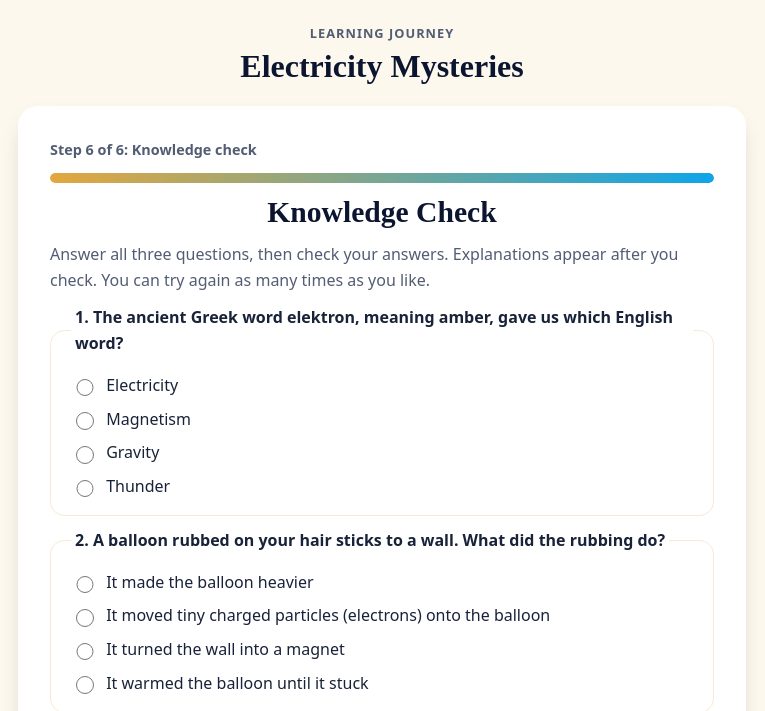
Test case: LessonPage › saves the quiz score on submit and marks the lesson completed only on Finish Lesson
What coordinates should you click on to do the following:
click the radio button labelled "Electricity"
I would click on:
 (85, 388)
Its box is [76,379,94,396].
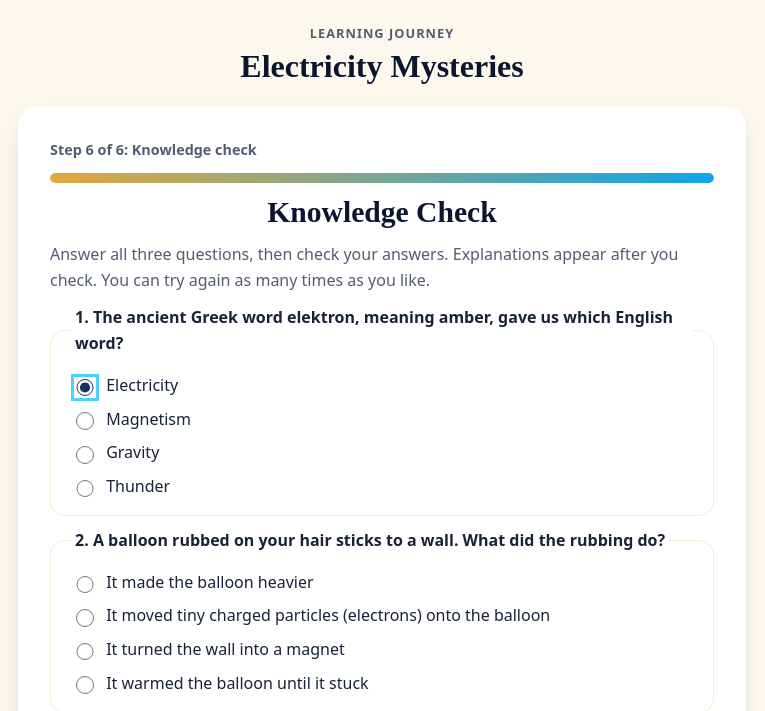
What coordinates should you click on to do the following:
click the radio button labelled "It moved tiny charged particles (electrons) onto the balloon"
I would click on:
 (85, 618)
Its box is [76,609,94,627].
(page scrolled)
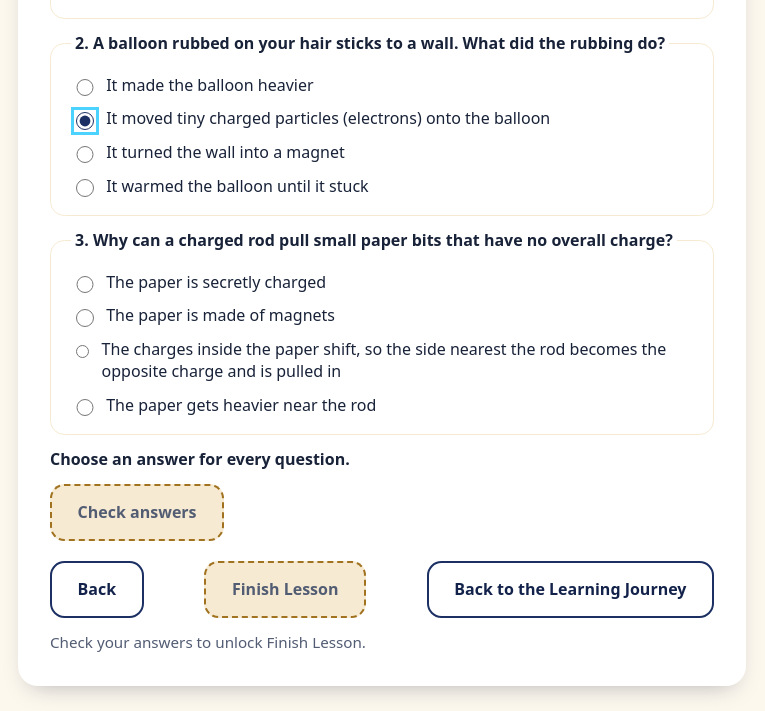
What coordinates should you click on to do the following:
click the radio button named "The charges inside the paper shift, so the side nearest the rod becomes the opposite charge and is pulled in"
I would click on:
 (82, 352)
Its box is [76,343,89,360].
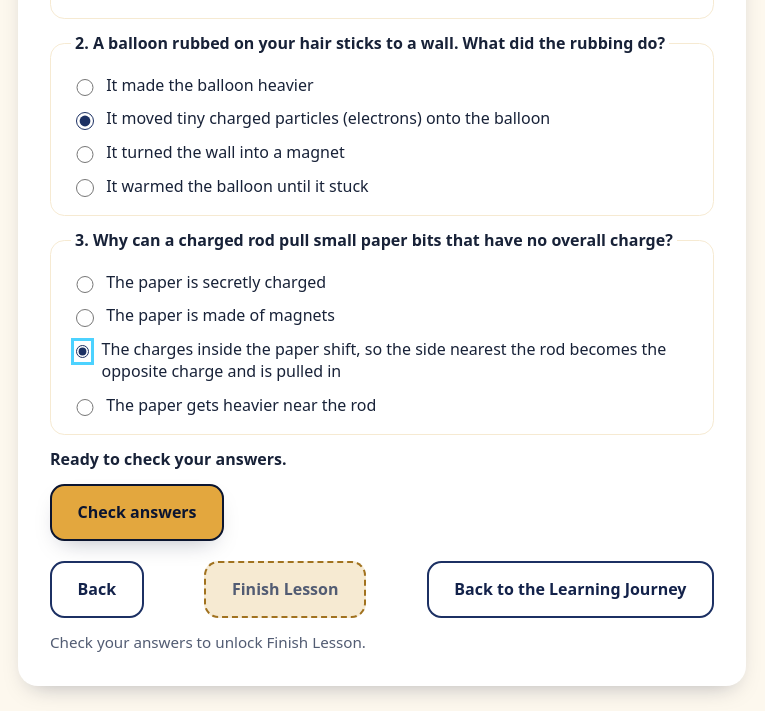
What coordinates should you click on to do the following:
click the button "Check answers"
I would click on:
 (137, 513)
Its box is [50,484,224,541].
(page scrolled)
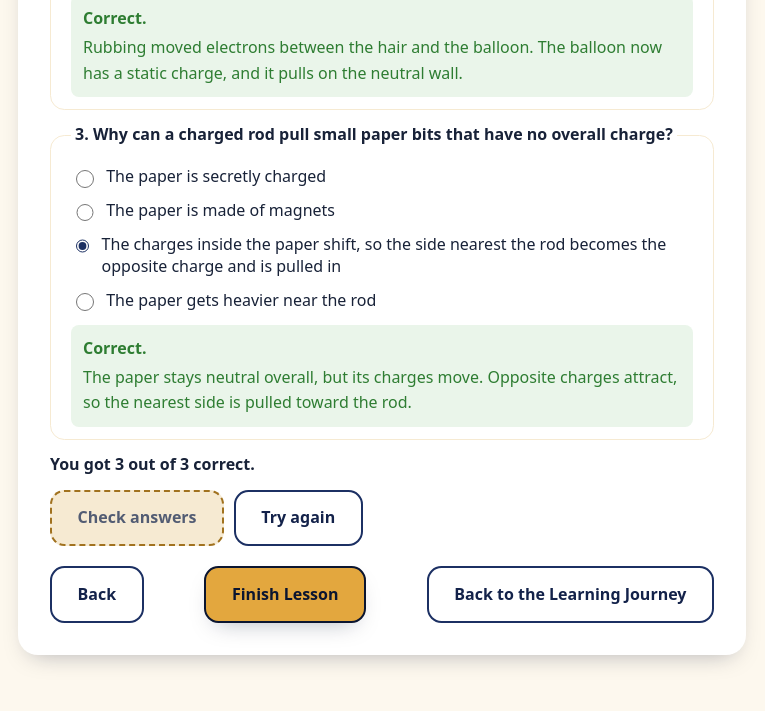
What coordinates should you click on to do the following:
click the button "Finish Lesson"
I would click on:
 (285, 595)
Its box is [204,566,366,623].
(page scrolled)
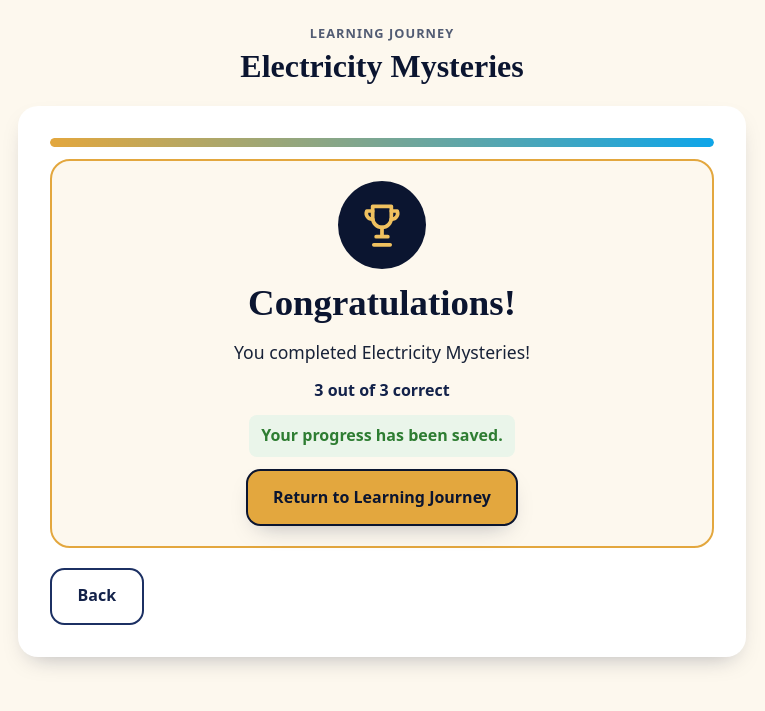
Expected: the text "3 out of 3 correct" is shown, [314,378,450,403]
Expected: the heading "Congratulations!" is shown, [248,282,516,326]
Expected: the text "You completed Electricity Mysteries!" is shown, [234,338,530,366]
